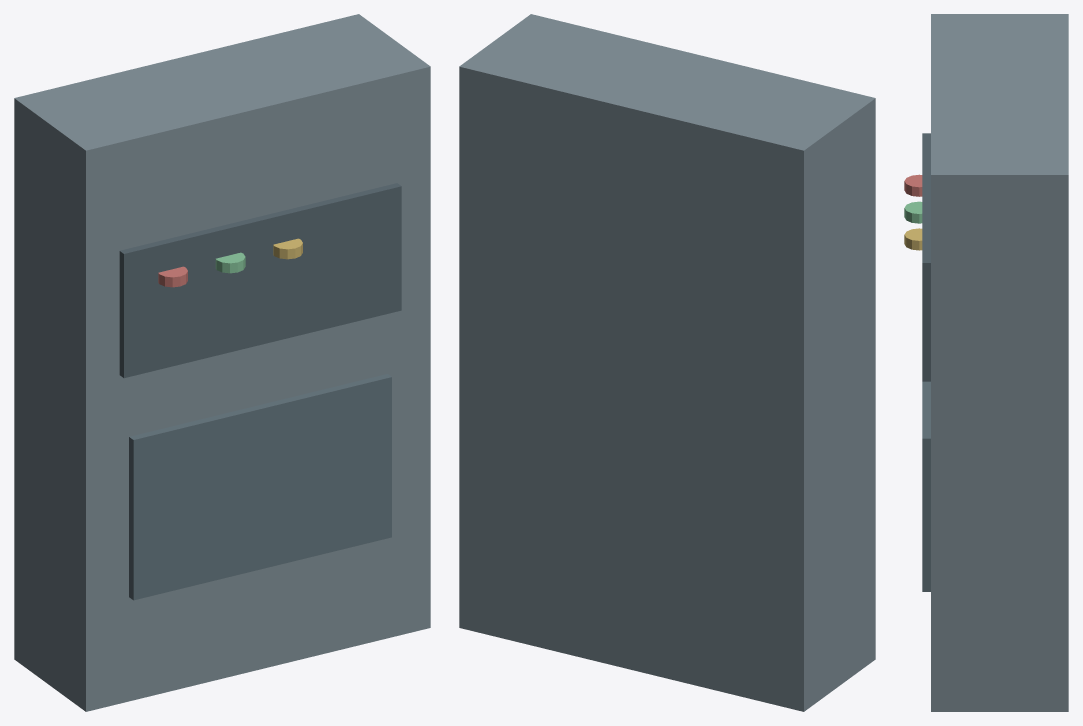
The model's file is panel_lod0.glb.
3 renders of one model, left to right at view 1: azimuth 30°, elevation 25°; view 2: azimuth 150°, elevation 25°; view 3: azimuth 270°, elevation 25°, orthographic. The views are drawn at different scales.
Visible parts, largest first — view 1: part_0, part_2, part_1; view 2: part_0; view 3: part_0, part_1, part_2, part_3, part_4, part_5.
Boxes of the visible parts, left/top/right/bottom form: part_0: left=14, top=14, right=430, bottom=711; part_2: left=129, top=374, right=391, bottom=600; part_1: left=119, top=183, right=401, bottom=378; part_0: left=459, top=14, right=875, bottom=711; part_0: left=931, top=14, right=1068, bottom=711; part_1: left=922, top=133, right=930, bottom=381; part_2: left=922, top=381, right=930, bottom=591; part_3: left=904, top=174, right=922, bottom=196; part_4: left=904, top=201, right=922, bottom=223; part_5: left=904, top=228, right=922, bottom=250.
Size of the model in its own units: 1.8 by 2.8 by 0.775.
